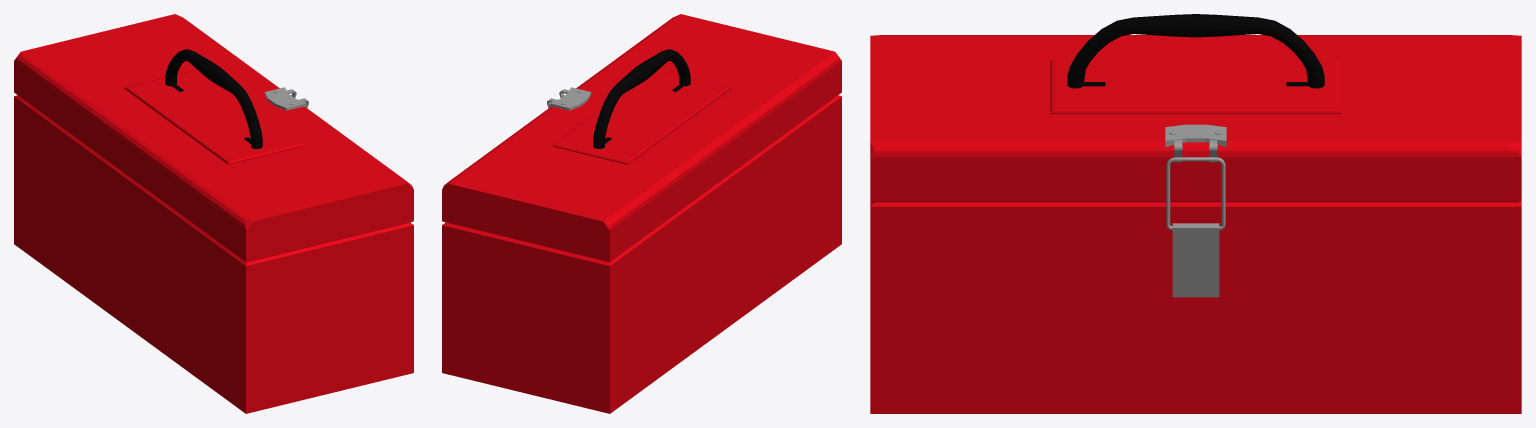
Rendered from Toolbox.fbx.
3 renders of one model, left to right at view 1: azimuth 30°, elevation 25°; view 2: azimuth 150°, elevation 25°; view 3: azimuth 270°, elevation 25°, orthographic. The views are drawn at different scales.
Parts seen in each view (by area): view 1: 큐브; view 2: 큐브; view 3: 큐브.
Part boxes in pixels (box(x1,y1,x2,y2)): 큐브: box(14, 14, 413, 413); 큐브: box(442, 14, 841, 413); 큐브: box(870, 14, 1521, 413).
Size of the model in its own units: 2.25 by 2.98 by 5.16.
